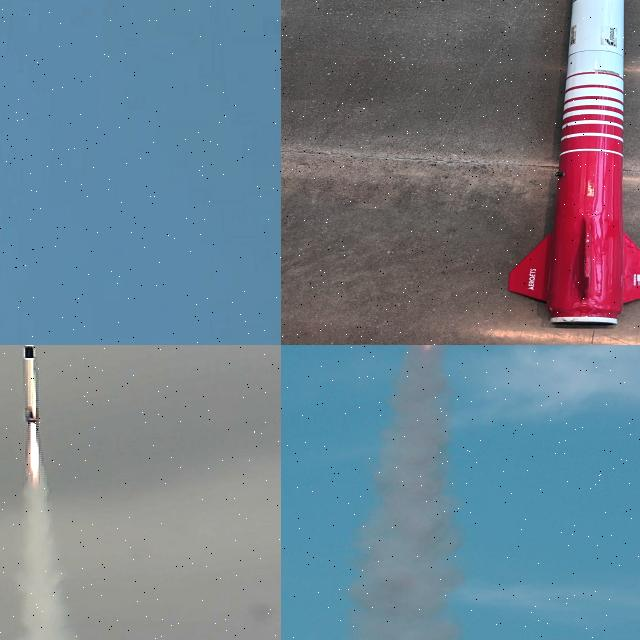Rocket: (508, 0, 640, 326), (20, 345, 39, 423)
